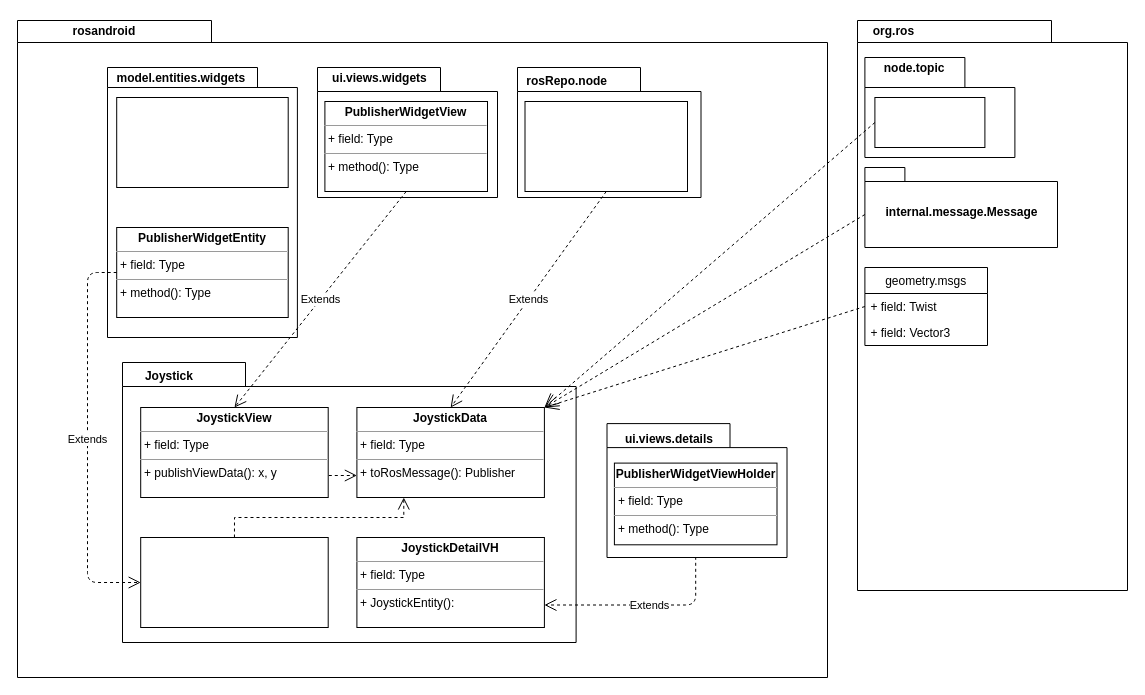
Image size: 1145x695. Some labels were removed from this diagram. The centre of each missing label's shape, as x and y in pixels:
"BaseData + field: Type + toRosMessage(): Type" goes at point (606, 146).
"BaseEntity + field: Type + method(): Type" goes at point (202, 142).
"JoystickEntity + field: Type + JoystickEntity():" goes at point (234, 582).
"«interface» Publisher" goes at point (929, 122).
